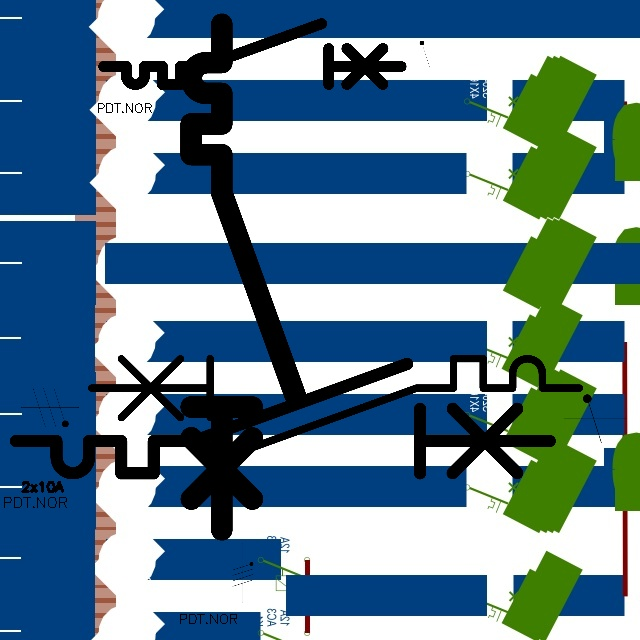interruptor_termomagnetico: (2, 350, 563, 487), (178, 11, 308, 543), (79, 346, 592, 471), (96, 16, 409, 92)
